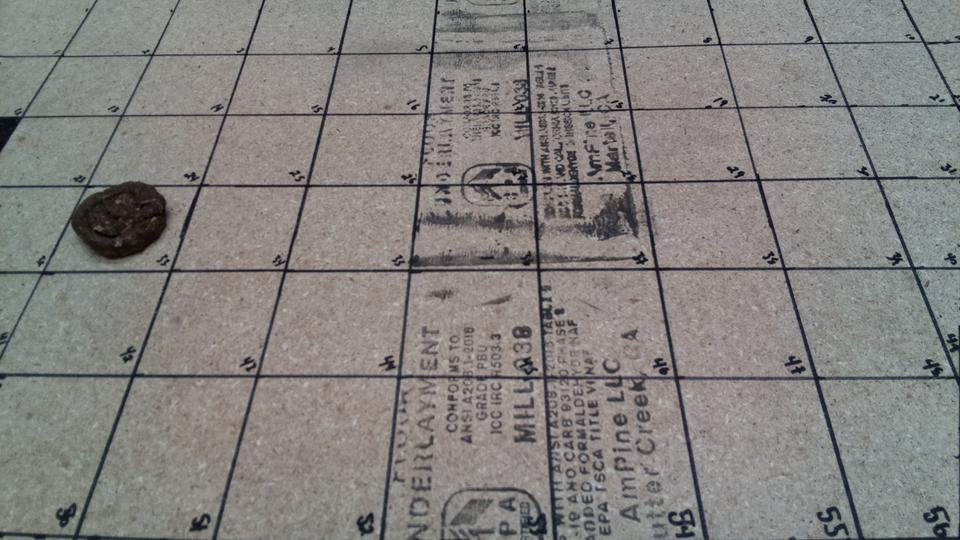poop: (68, 181, 169, 261)
